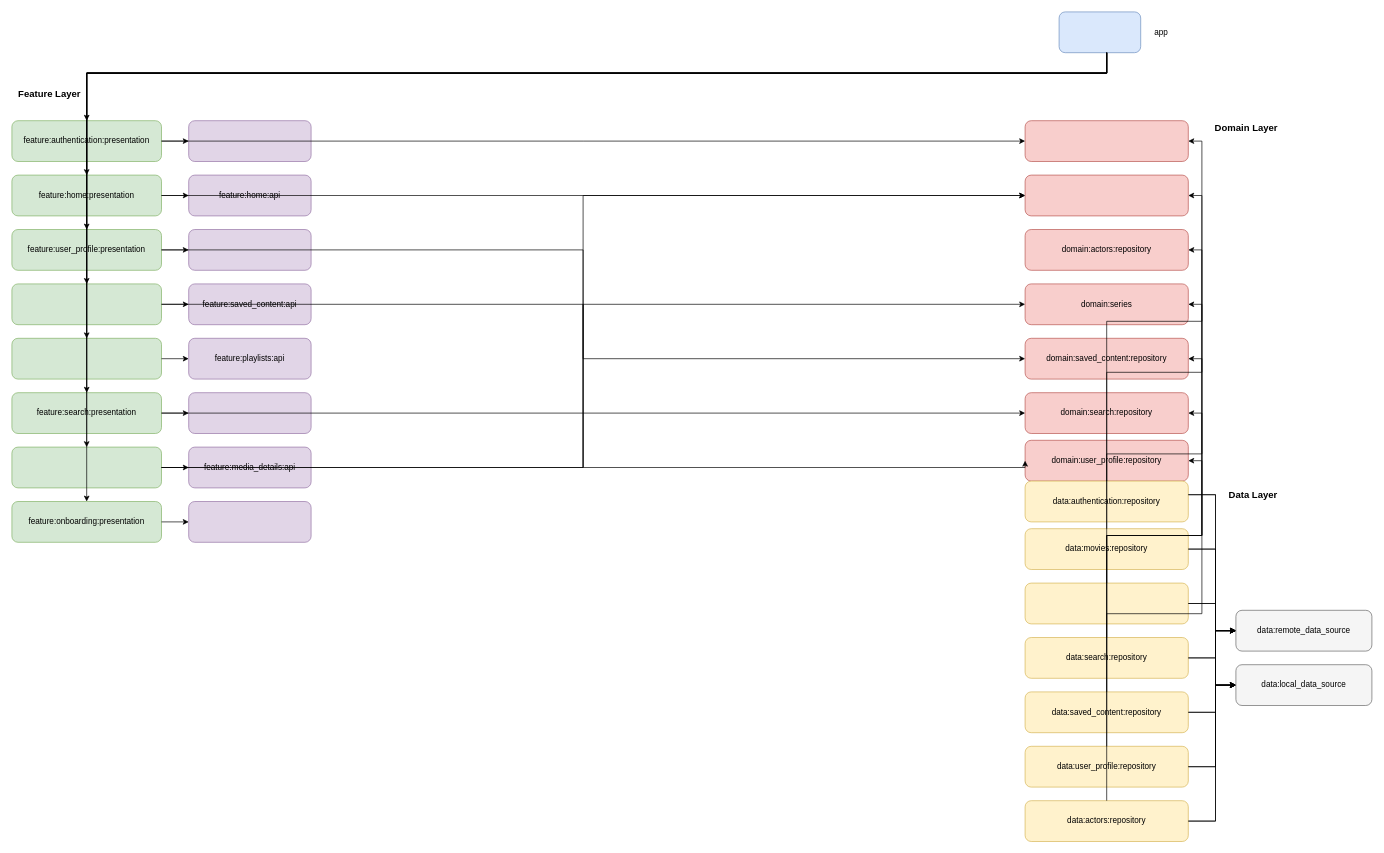
The diagram is 1384 pixels wide and 853 high, and some of its shapes have lost their labels. Each missing label, with the box of its shape:
App Module: (1058, 11, 1141, 53)
data:series:repository: (1024, 582, 1188, 624)
domain:authentication:repository: (1024, 120, 1188, 162)
domain:movies:repository: (1024, 174, 1188, 216)
feature:authentication:api: (188, 120, 311, 162)
feature:media_details:presentation: (11, 446, 162, 488)
feature:onboarding:api: (188, 501, 311, 542)
feature:playlists:presentation: (11, 338, 162, 379)
feature:saved_content:presentation: (11, 283, 162, 325)
feature:search:api: (188, 392, 311, 434)
feature:user_profile:api: (188, 229, 311, 270)
